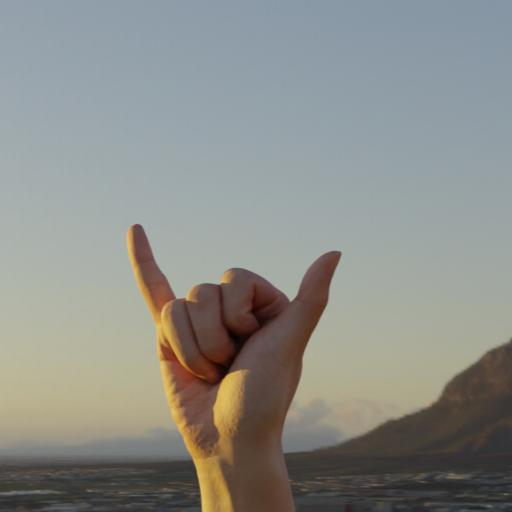Y: (122, 216, 352, 458)
